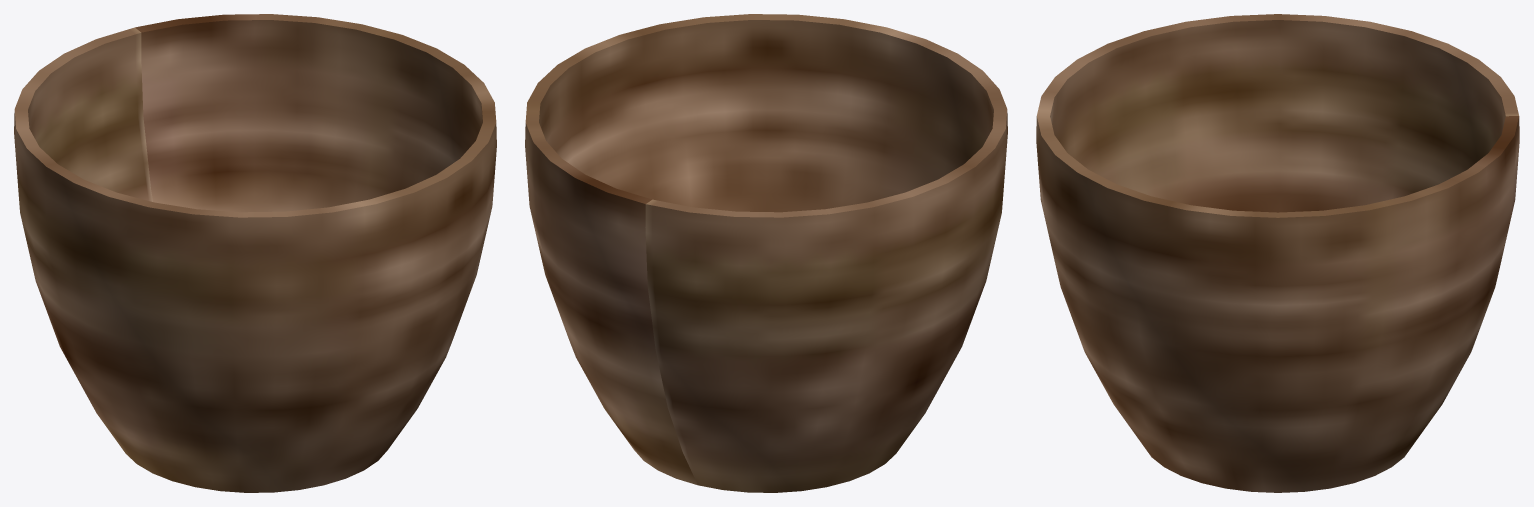
The model's file is alexc_woven_basket.fbx.
3 views of the same model, side by side, from view 1: azimuth 30°, elevation 25°; view 2: azimuth 150°, elevation 25°; view 3: azimuth 270°, elevation 25° (orthographic).
Parts seen in each view (by area): view 1: wovenbasket; view 2: wovenbasket; view 3: wovenbasket.
Boxes of the visible parts, <box> form: wovenbasket: <box>14,14,496,492</box>; wovenbasket: <box>525,14,1007,492</box>; wovenbasket: <box>1036,14,1519,492</box>.
Size of the model in its own units: 363 by 363 by 264.
Materials: 1 (1 with a texture image).
